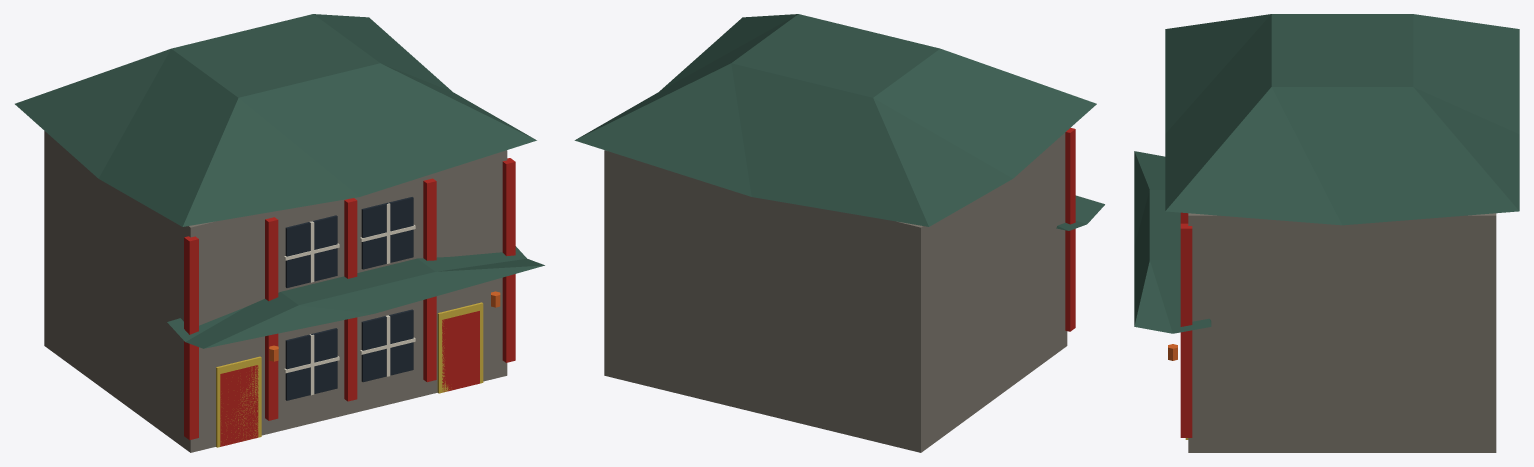
The model's file is building_westyork_s2_fusion_terrace.glb.
3 renders of one model, left to right at view 1: azimuth 30°, elevation 25°; view 2: azimuth 150°, elevation 25°; view 3: azimuth 270°, elevation 25°, orthographic. The views are drawn at different scales.
Visible parts, largest first — view 1: building_westyork_s2_fusion_terrace; view 2: building_westyork_s2_fusion_terrace; view 3: building_westyork_s2_fusion_terrace.
Part boxes in pixels (left/top/right/bottom): building_westyork_s2_fusion_terrace: left=15, top=14, right=544, bottom=452; building_westyork_s2_fusion_terrace: left=574, top=14, right=1104, bottom=452; building_westyork_s2_fusion_terrace: left=1134, top=14, right=1519, bottom=452.
Bounding box in the file's own units: 11.2 × 9.2 × 10.
1 material, 1 textured.
